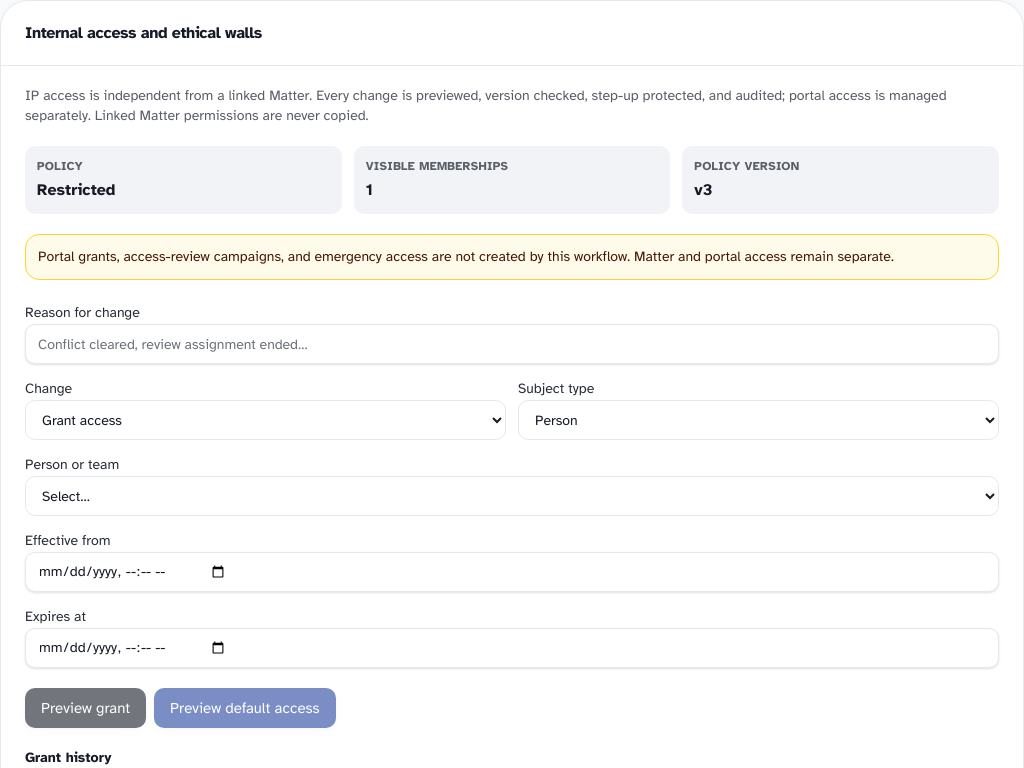
Scenario: IpAccessWorkspace › shows progress while an access preview is being calculated
The width and height of the screenshot is (1024, 768).
Expected: the text "Restricted" is shown, [37, 180, 115, 200]
Type "Conflict clearance completed." into the field labelled "Reason for change" at (512, 344), box [25, 324, 999, 364]
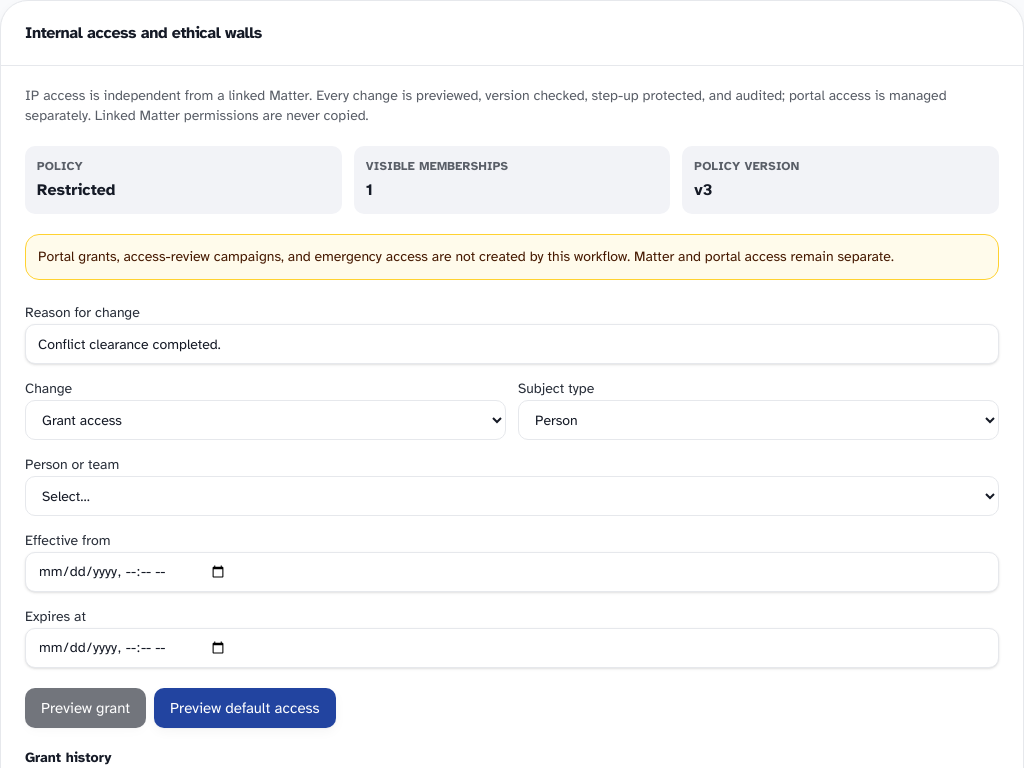
Select "Priya Reviewer · priya@example.test" in the dropdown labelled "Person or team" at (512, 496), box [25, 476, 999, 516]
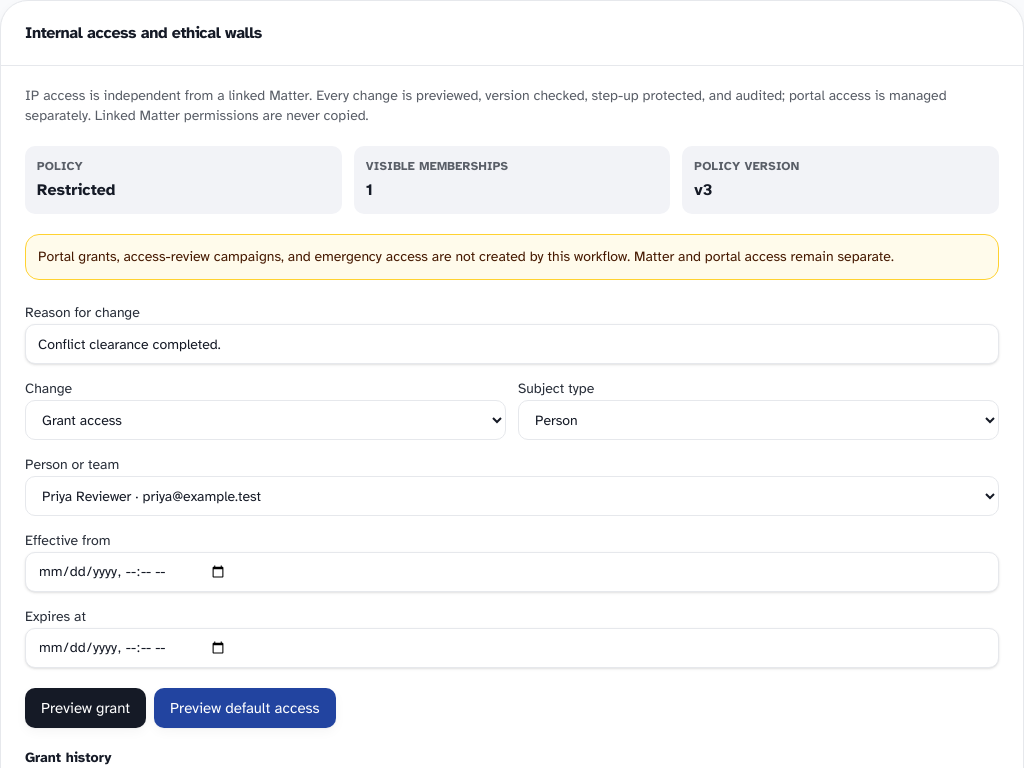
Click the button "Preview grant" at (86, 708), box [25, 688, 146, 728]
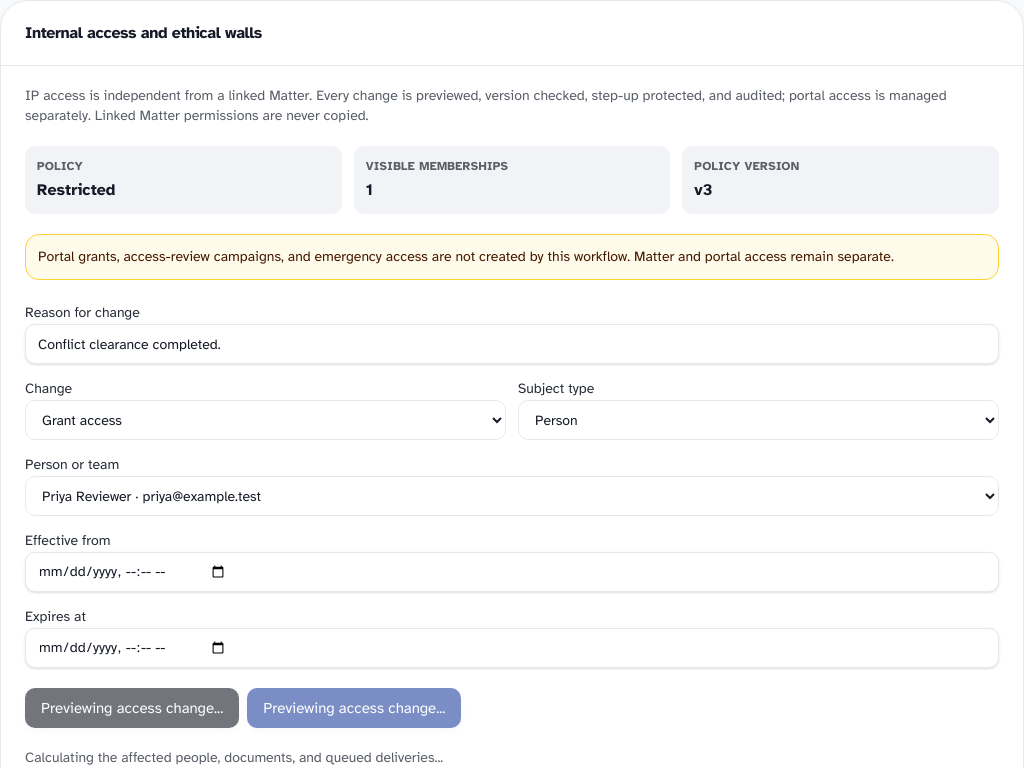
Expected: the number of buttons "Previewing access change..." is 2, [25, 688, 239, 728]; [247, 688, 461, 728]
Expected: the message shows "Calculating the affected people, documents, and queued deliveries", [25, 749, 443, 766]
